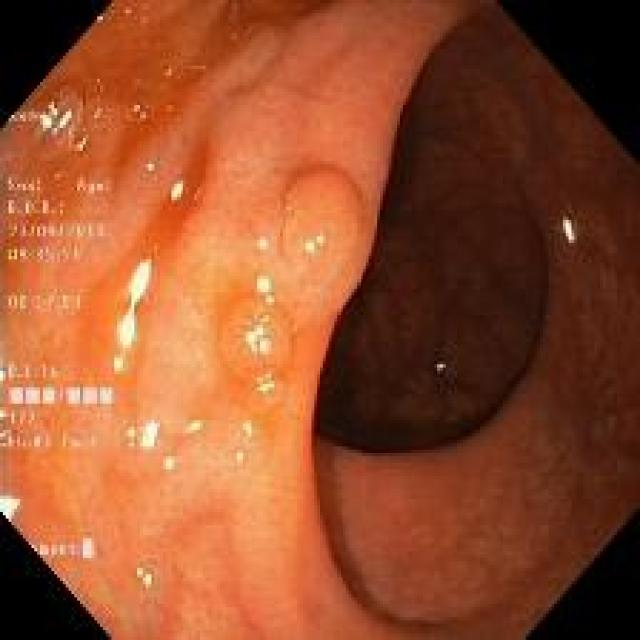Polyps: (282, 168, 359, 280)
